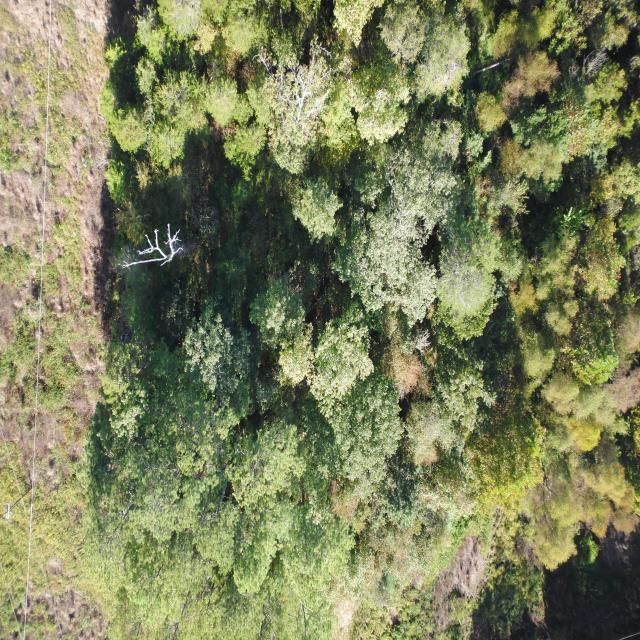Area of Interest: (108, 10, 632, 626)
